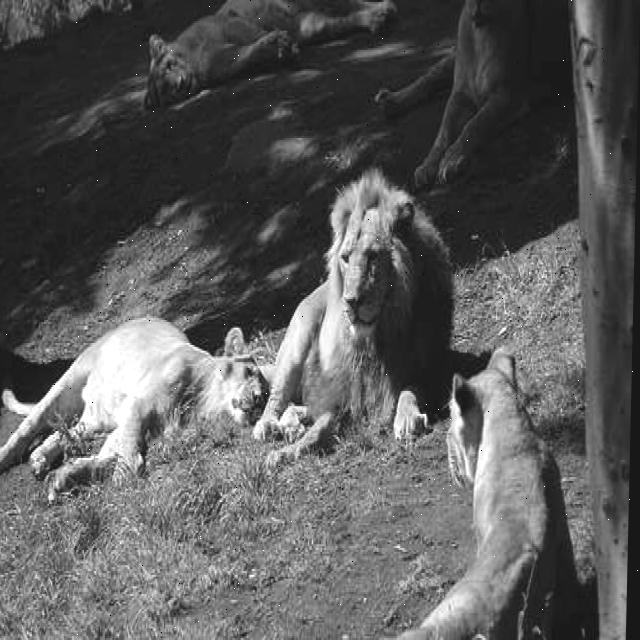Lion: (291, 156, 470, 488), (35, 284, 283, 502), (435, 345, 602, 640), (131, 27, 229, 123)
